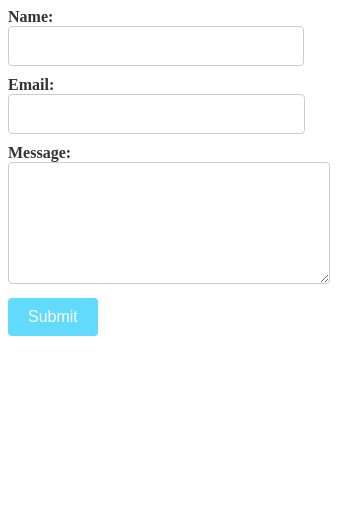
Test: submits form data correctly
The image size is (347, 506).
Type "John Doe" into the field labelled "Name:" at (156, 46), box [8, 26, 304, 66]
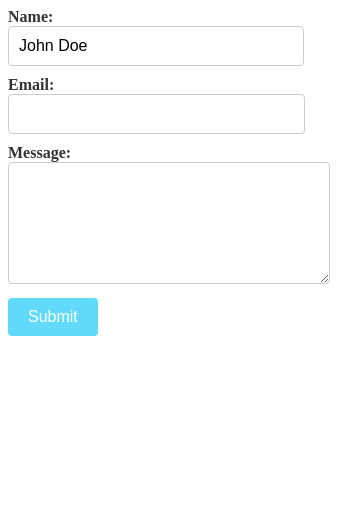
Type "john@example.com" into the field labelled "Email:" at (157, 114), box [8, 94, 305, 134]
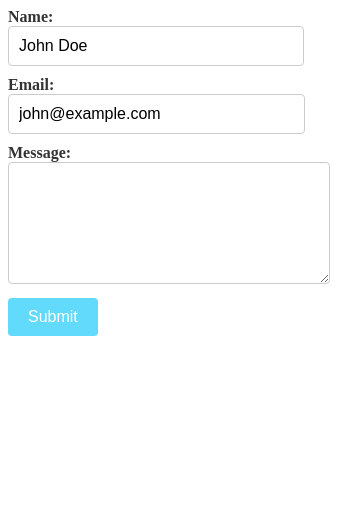
Type "Hello, world!" into the text box labelled "Message:" at (169, 223), box [8, 162, 330, 284]
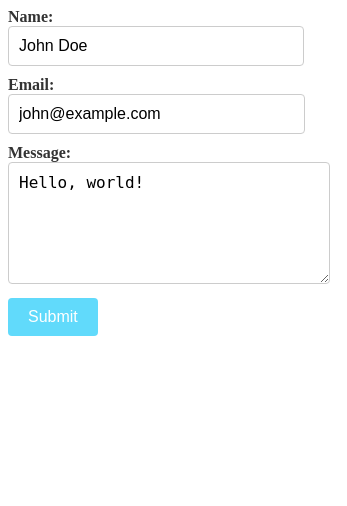
Submit the form from the button "Submit", box [8, 298, 98, 336]
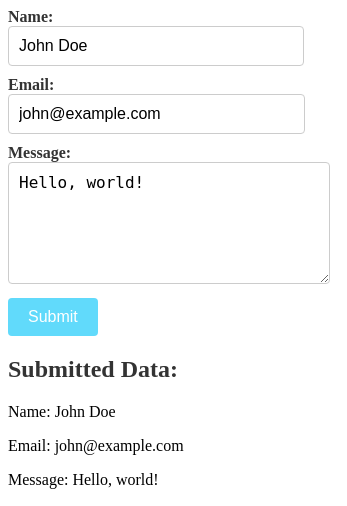
Now the heading "Submitted Data:" is shown, box [8, 356, 178, 382]
Now the text "Name: John Doe" is shown, box [8, 403, 116, 420]
Now the text "Email: john@example.com" is shown, box [8, 437, 184, 454]
